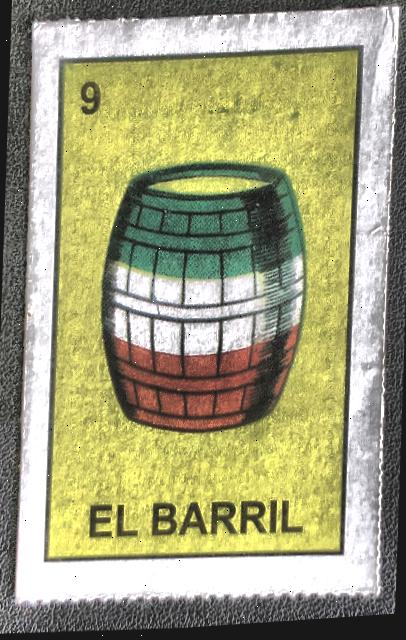El Barril: (25, 12, 387, 605)
